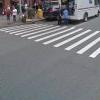Crosswalk: (3, 15, 96, 61)
